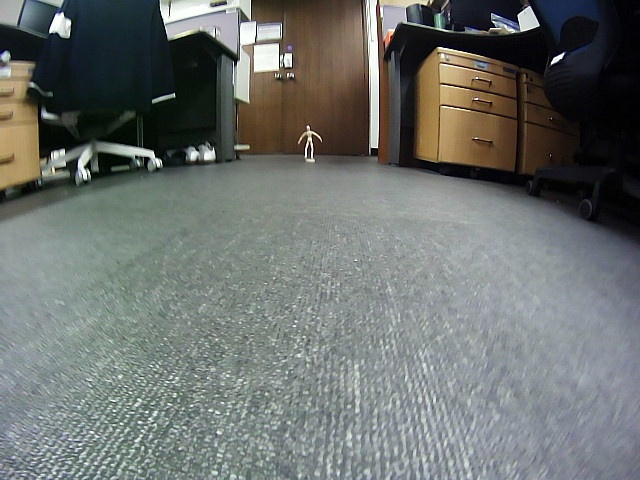person: (297, 125, 323, 159)
